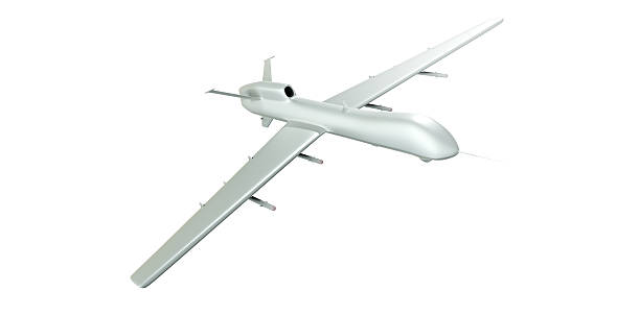military drone: (129, 17, 504, 288)
